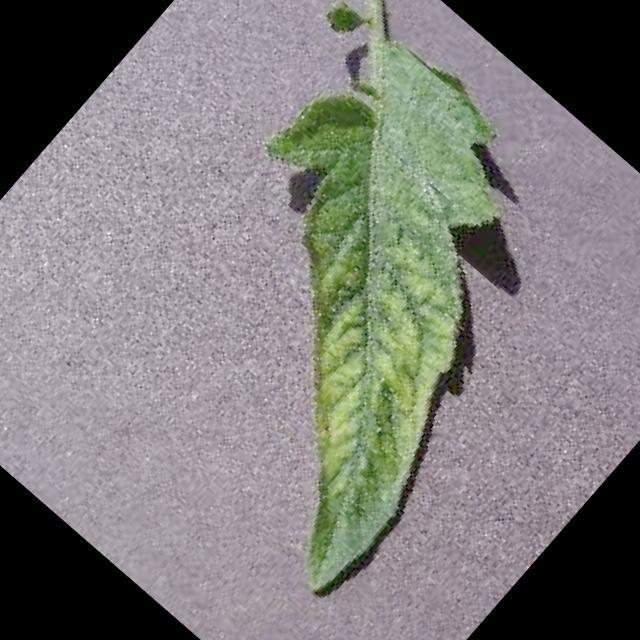Tomato mosaic virus leaf: (58, 16, 640, 612)
